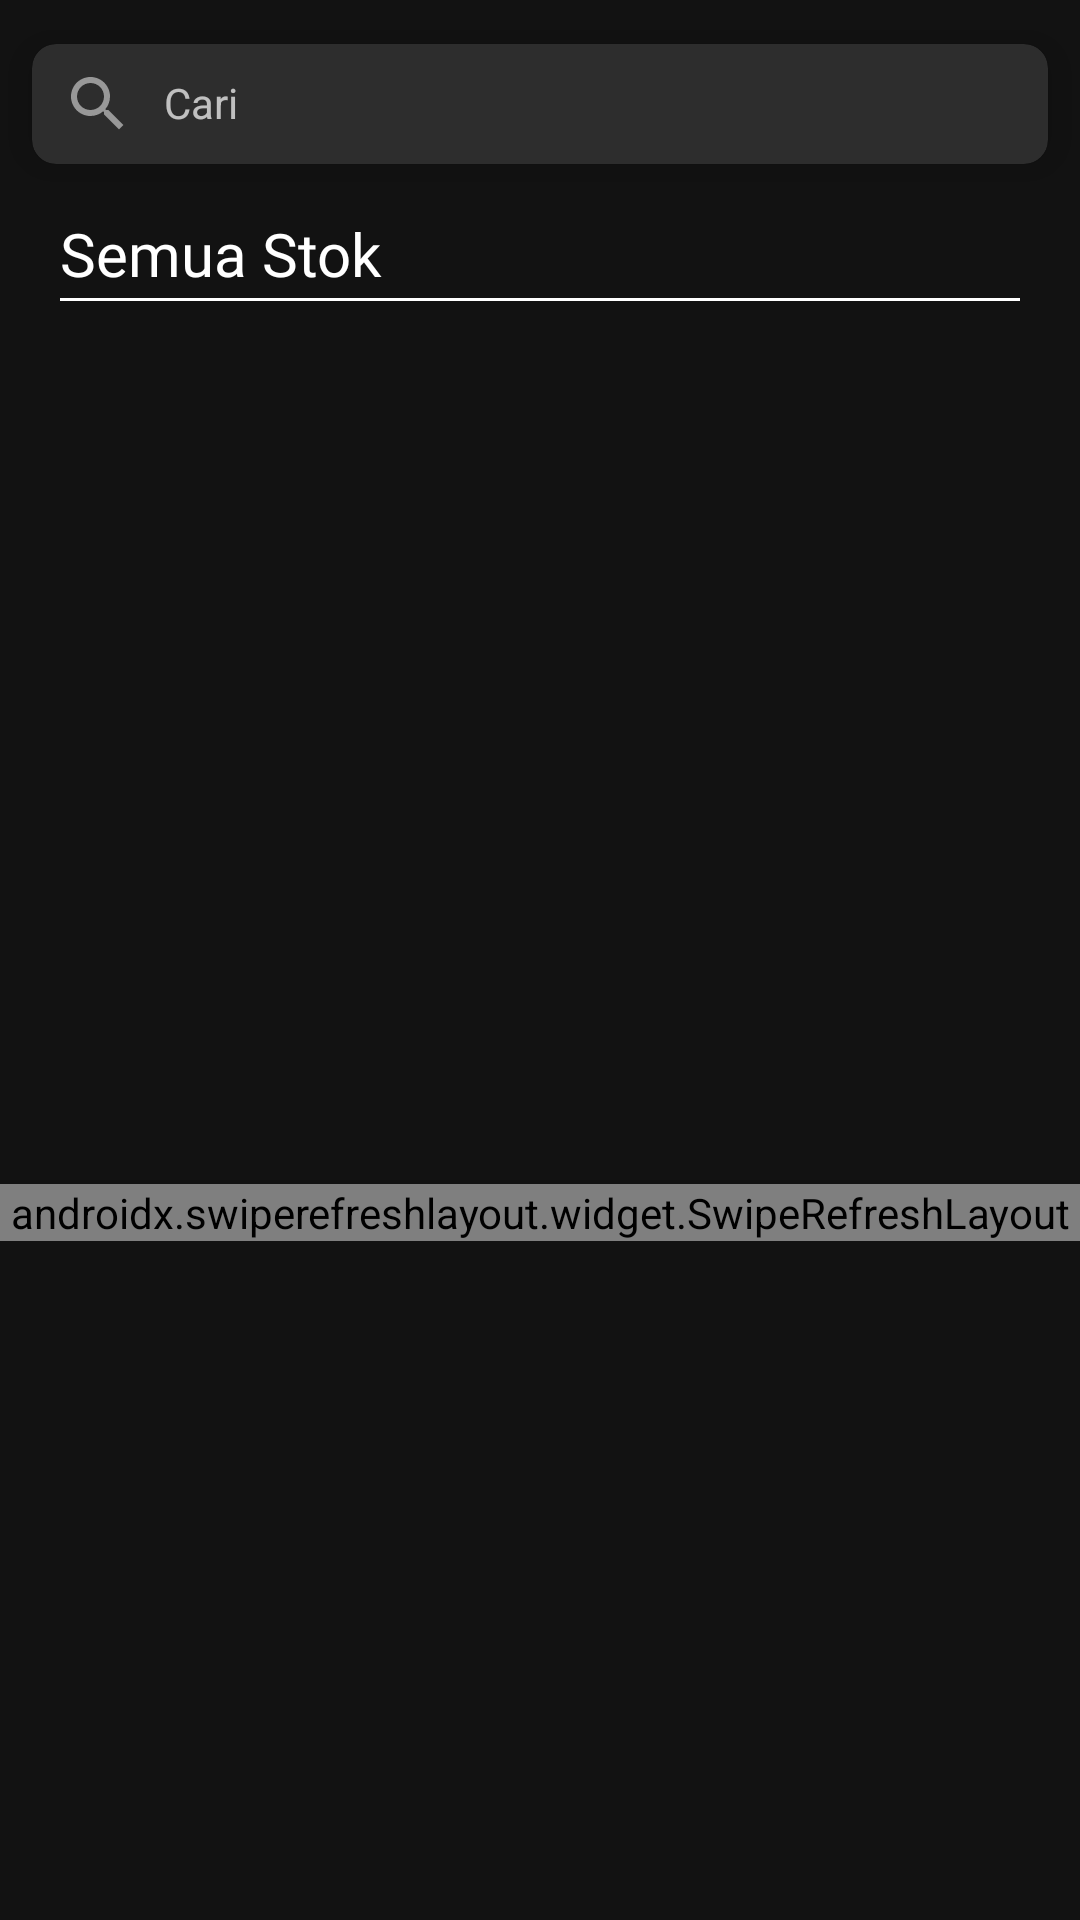

Screen size 1080px x 1920px. Icon name, then its box in pixels as bbox(x1, y1, x2, y2):
search: bbox(71, 77, 123, 129)
